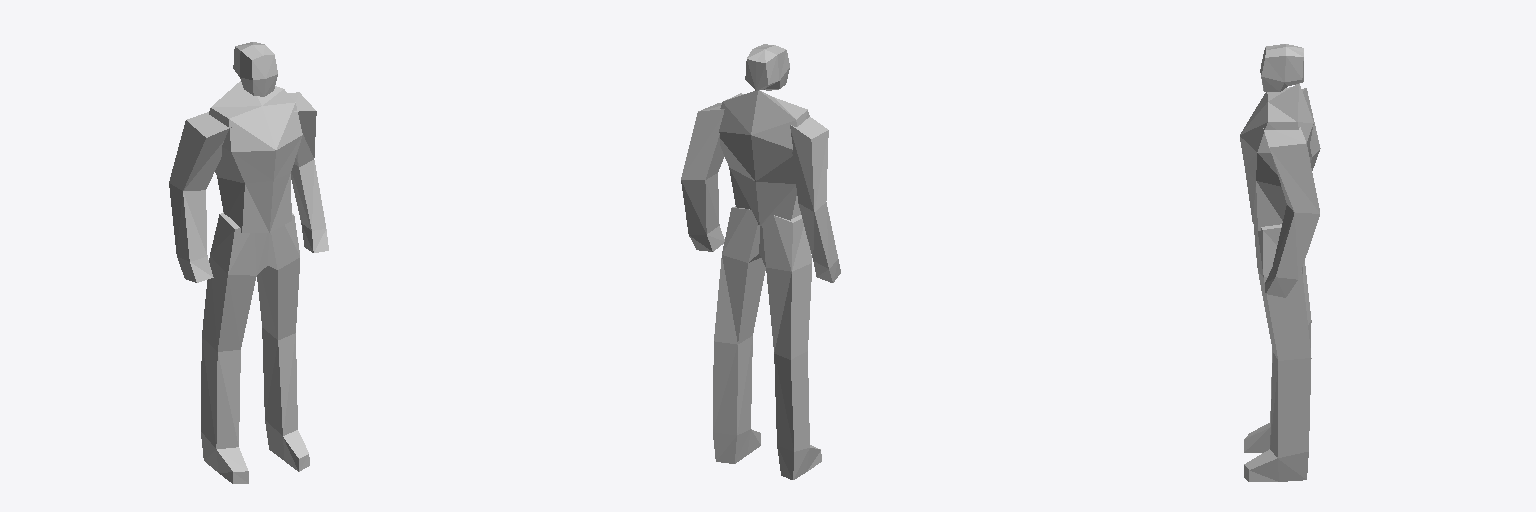
Rendered from stickFigure_Hero.OBJ.
3 views of the same model, side by side, from view 1: azimuth 30°, elevation 25°; view 2: azimuth 150°, elevation 25°; view 3: azimuth 270°, elevation 25° (orthographic).
Parts seen in each view (by area): view 1: Group32890, Group32875, Group42380, Group32845; view 2: Group32890, Group42380, Group32875, Group32845; view 3: Group32890, Group42380, Group32875, Group32845.
Boxes of the visible parts, <box> form: Group32890: <box>201,212,309,483</box>; Group32875: <box>209,81,302,232</box>; Group42380: <box>169,92,328,282</box>; Group32845: <box>233,42,277,96</box>; Group32890: <box>713,206,821,479</box>; Group42380: <box>681,103,840,282</box>; Group32875: <box>719,90,809,225</box>; Group32845: <box>745,44,789,90</box>; Group32890: <box>1244,224,1311,481</box>; Group42380: <box>1263,88,1320,297</box>; Group32875: <box>1240,83,1313,230</box>; Group32845: <box>1260,44,1303,91</box>.
Bounding box in the file's own units: 6.22 × 17.71 × 3.12.